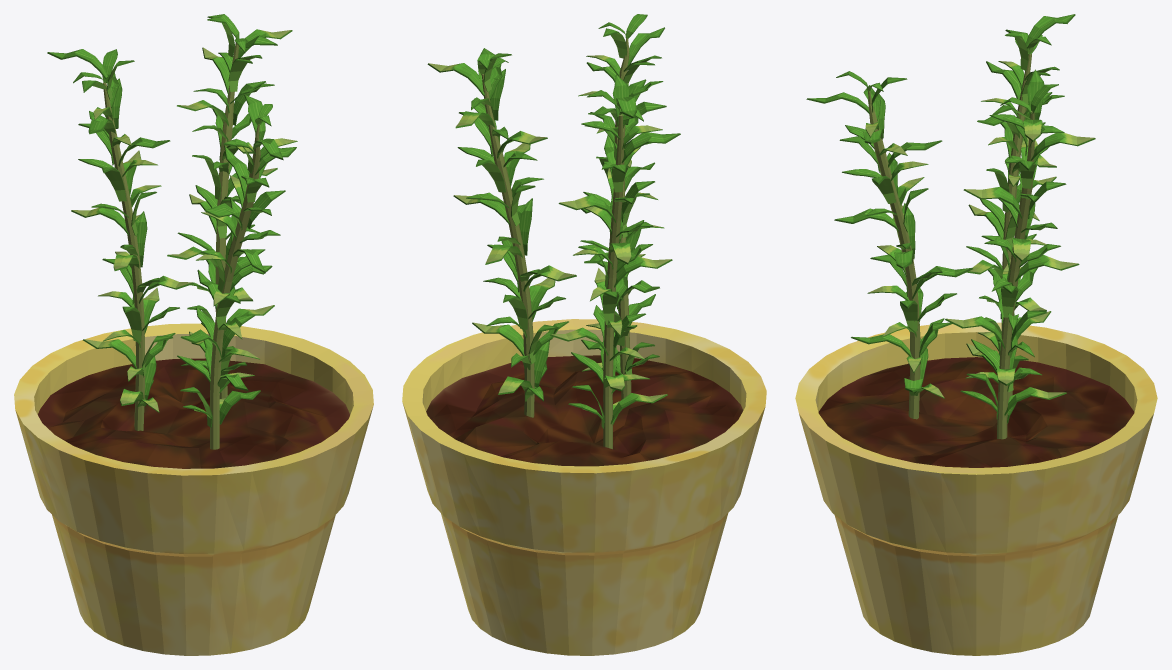
File: Lilium_Neutral_End.glb
3 renders of one model, left to right at view 1: azimuth 30°, elevation 25°; view 2: azimuth 150°, elevation 25°; view 3: azimuth 270°, elevation 25°, orthographic.
Visible parts, largest first — view 1: Pot, Plane.026; view 2: Pot, Plane.026; view 3: Pot, Plane.026.
Part boxes in pixels (bbox=[...]): Pot: bbox=[14, 323, 373, 655]; Plane.026: bbox=[47, 14, 297, 449]; Pot: bbox=[402, 319, 766, 655]; Plane.026: bbox=[427, 14, 680, 449]; Pot: bbox=[795, 322, 1157, 655]; Plane.026: bbox=[806, 14, 1095, 439].
Size of the model in its own units: 2.05 by 3.49 by 2.05.
Materials: 5 (4 with a texture image).
